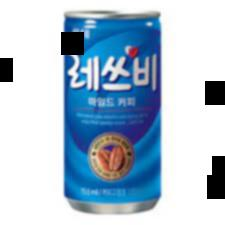letsbe: (63, 10, 163, 215)
